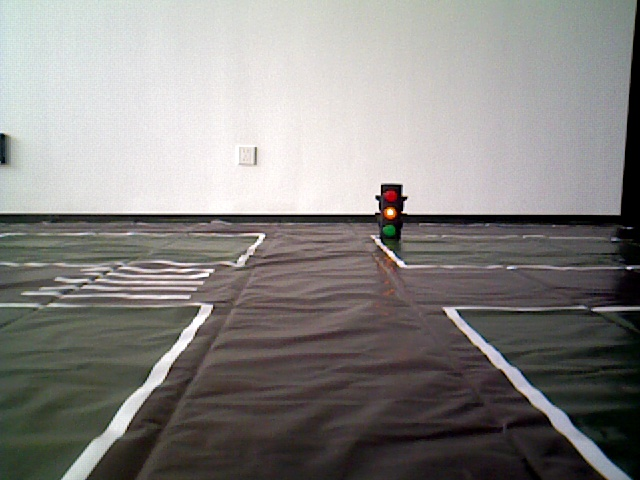yellow: (376, 184, 405, 249)
